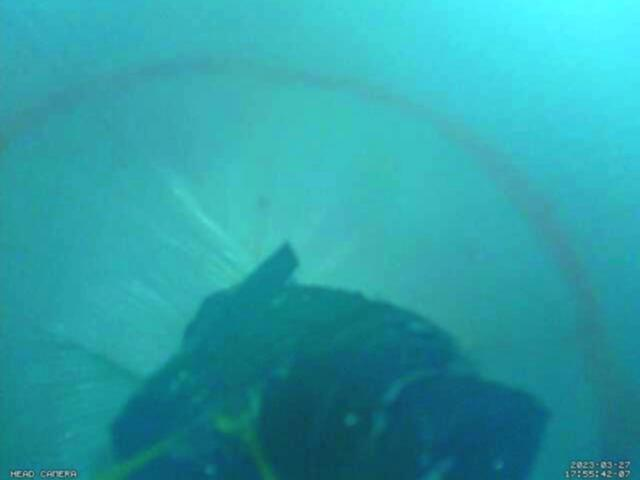head: (0, 54, 618, 458)
